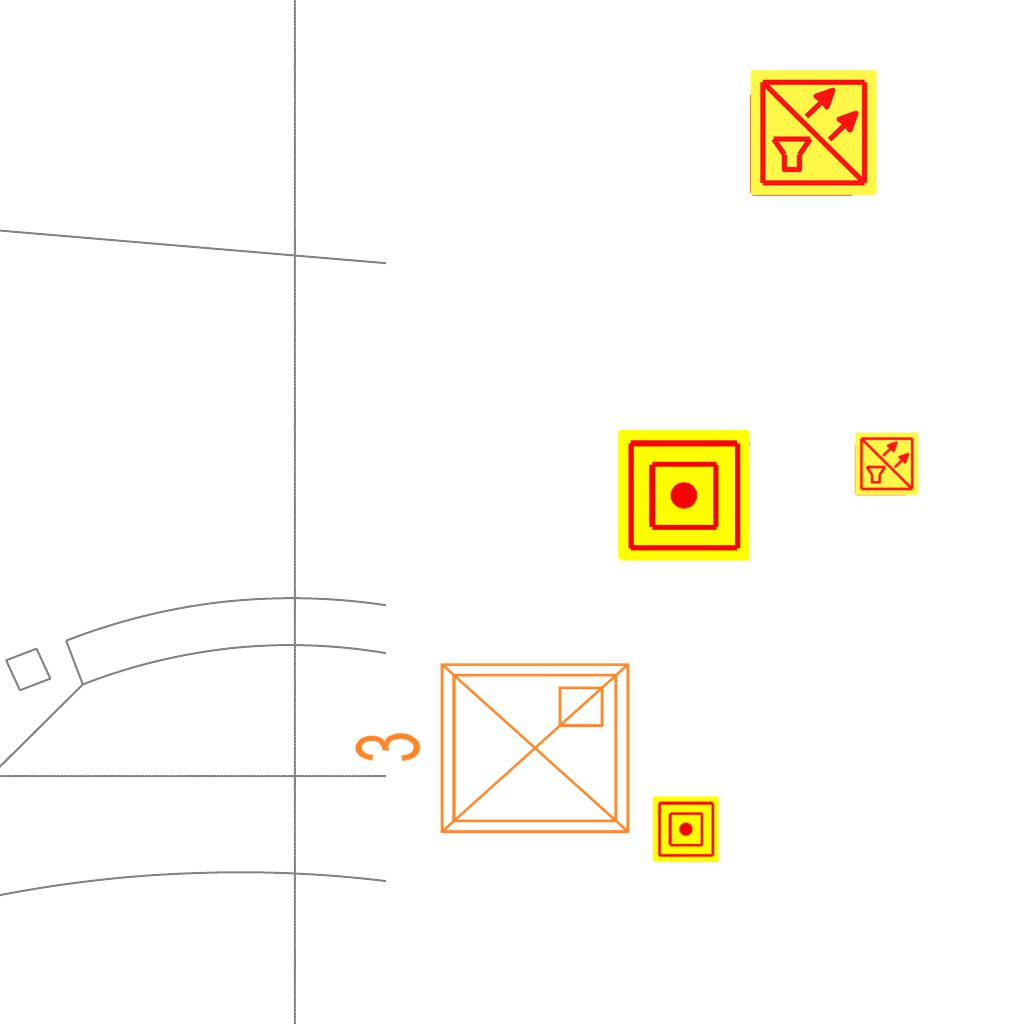Einbaudownlights_LED_Konferenzraeume: (344, 648, 644, 856)
NAM-Nichtautomatischer_Melder: (618, 429, 750, 561), (653, 796, 719, 862)
OKW_Multisensormelder_(Kombination_optischer_Rauch-Kahlenmonoxid_Waerme-Melder): (748, 67, 880, 199), (854, 431, 920, 497)
